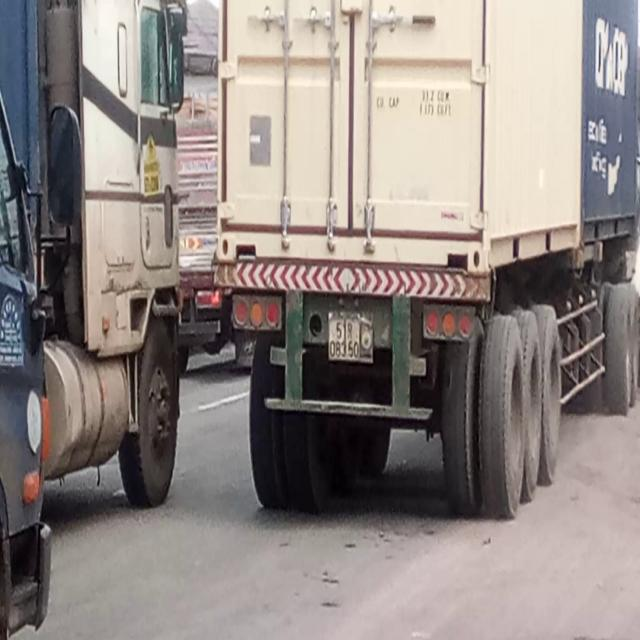bien_trang: (328, 319, 362, 362)
